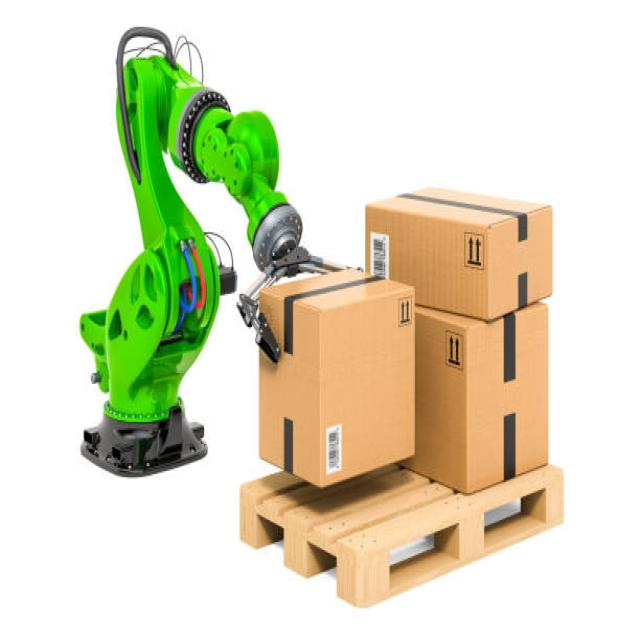Robotic-arm: (79, 19, 307, 490)
